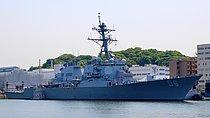MIL_Ship: (4, 12, 205, 102)
